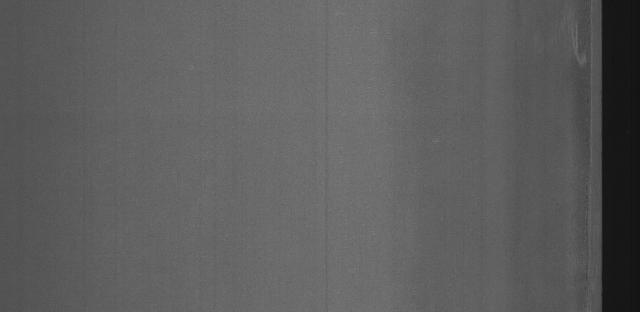silk_spot: (554, 11, 599, 73)
